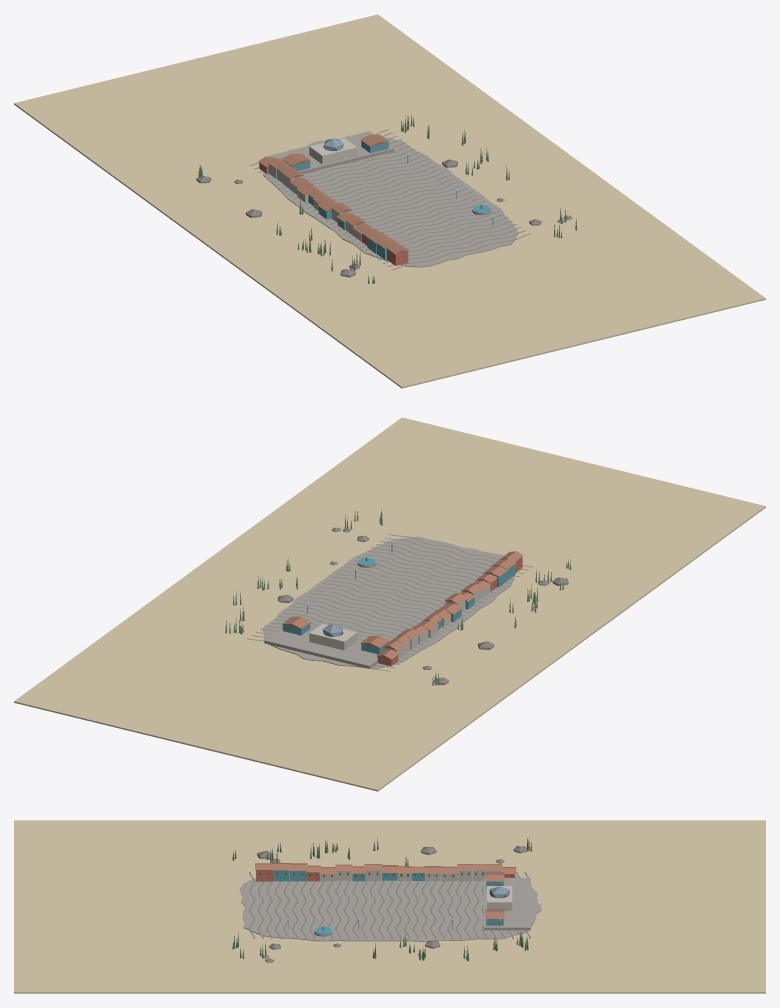
File: pearl.glb
3 renders of one model, top to bottom at view 1: azimuth 30°, elevation 25°; view 2: azimuth 150°, elevation 25°; view 3: azimuth 270°, elevation 25°, orthographic. The views are drawn at different scales.
Visible parts, largest first — view 1: Static; view 2: Static; view 3: Static.
Part boxes in pixels (x1=…): Static: x1=14, y1=14, x2=765, y2=388; Static: x1=14, y1=417, x2=765, y2=791; Static: x1=14, y1=820, x2=765, y2=993.
Bounding box in the file's own units: 52 × 3.65 × 96.
